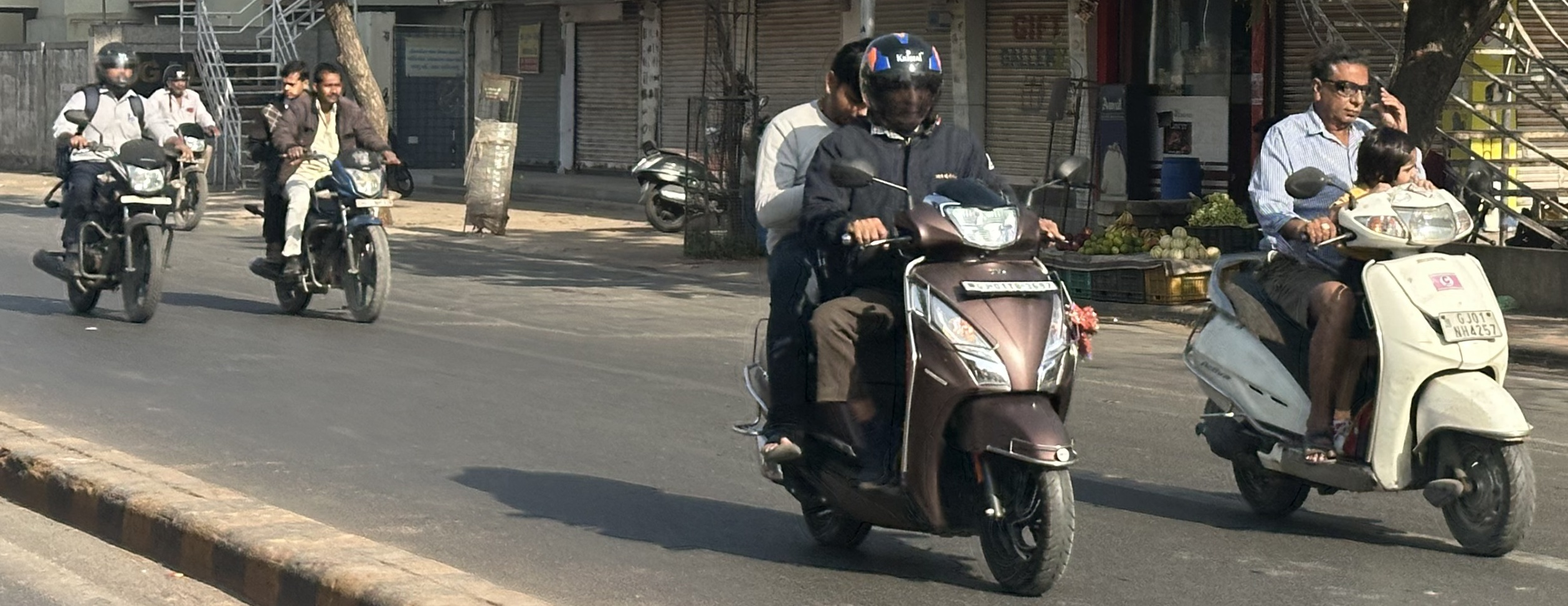BikeWithRider: (723, 23, 1111, 598), (1169, 38, 1546, 564), (26, 36, 205, 329), (239, 50, 416, 329), (138, 54, 228, 235)
Helmet: (848, 27, 953, 138), (85, 37, 146, 97)
NoHelmet: (1295, 42, 1384, 133), (810, 32, 887, 127), (306, 57, 353, 108), (272, 56, 316, 109), (155, 58, 199, 98)
